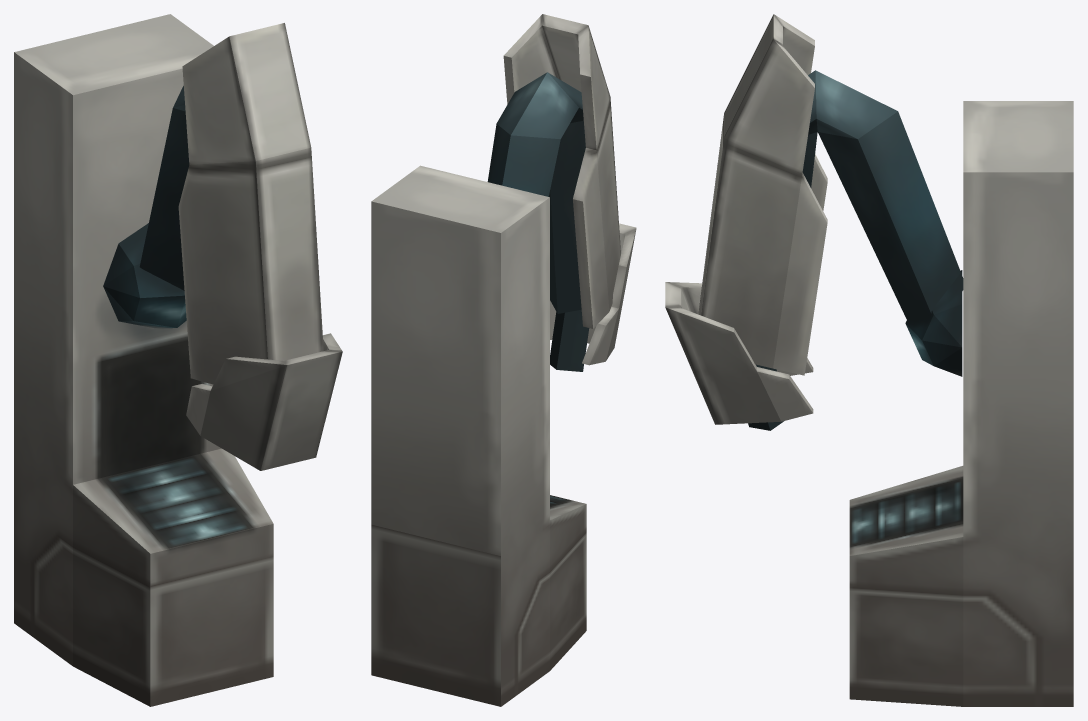
File: Robot_Arm.fbx
3 renders of one model, left to right at view 1: azimuth 30°, elevation 25°; view 2: azimuth 150°, elevation 25°; view 3: azimuth 270°, elevation 25°, orthographic. The views are drawn at different scales.
Parts seen in each view (by area): view 1: Robot_Arm; view 2: Robot_Arm; view 3: Robot_Arm.
Boxes of the visible parts, x1,y1,x2,y2 form: Robot_Arm: [14, 14, 342, 706]; Robot_Arm: [371, 14, 636, 706]; Robot_Arm: [665, 14, 1073, 706].
Size of the model in its own units: 0.4914 by 2.08 by 1.19.
